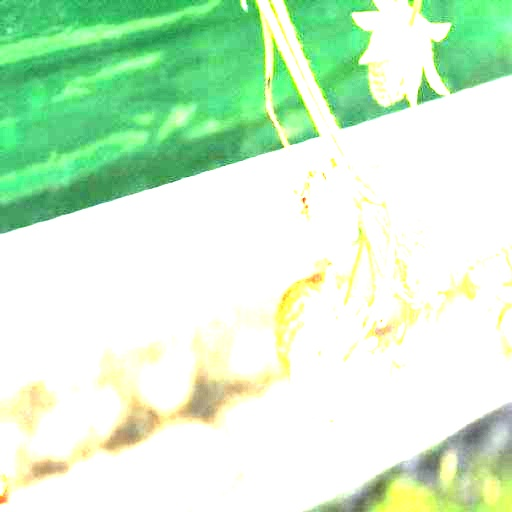Gray Mold: (289, 154, 352, 278)
